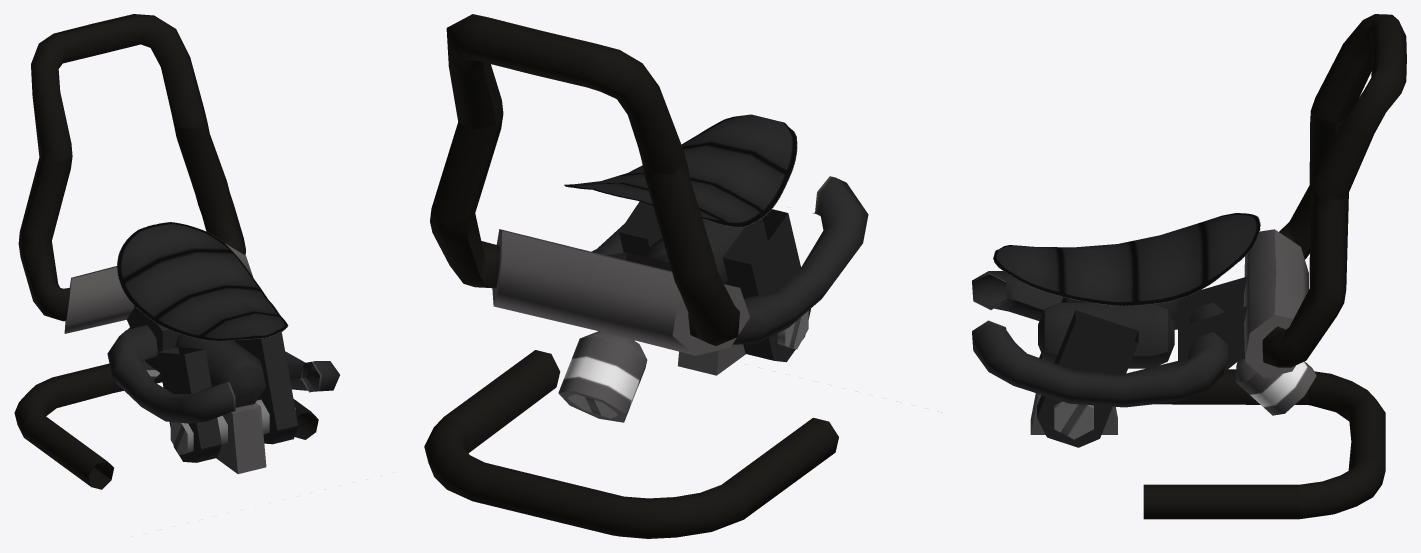
Rendered from obj_interactive_saddle_02.fbx.
The picture shows the model from 3 angles, left to right: view 1: azimuth 30°, elevation 25°; view 2: azimuth 150°, elevation 25°; view 3: azimuth 270°, elevation 25°; orthographic projection. The views are drawn at different scales.
Parts seen in each view (by area): view 1: obj_interactive_saddle_02; view 2: obj_interactive_saddle_02; view 3: obj_interactive_saddle_02.
Boxes of the visible parts, x1=… form: obj_interactive_saddle_02: x1=14, y1=14, x2=339, y2=489; obj_interactive_saddle_02: x1=424, y1=14, x2=868, y2=538; obj_interactive_saddle_02: x1=972, y1=14, x2=1406, y2=519.
Size of the model in its own units: 2.77 by 3.52 by 3.3.
